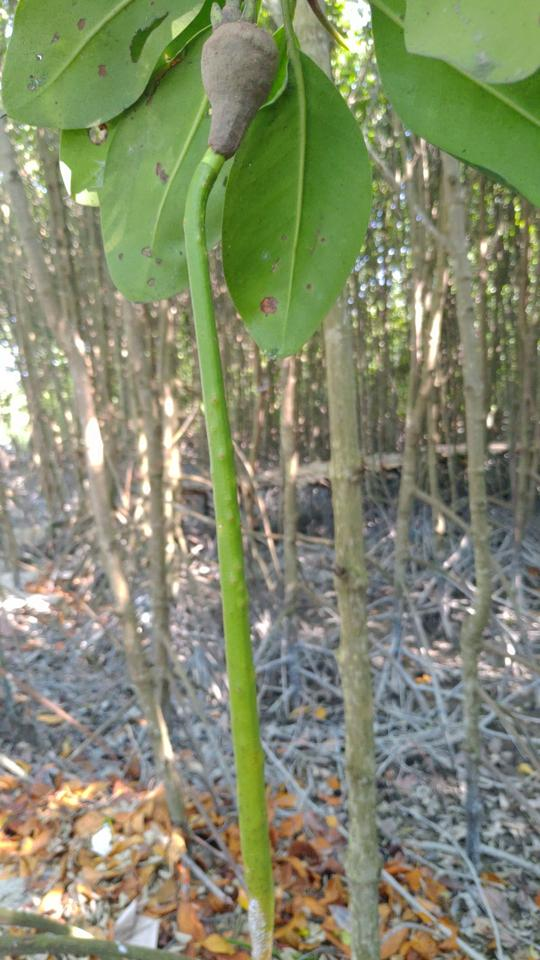setengah matang: (183, 1, 292, 956)
